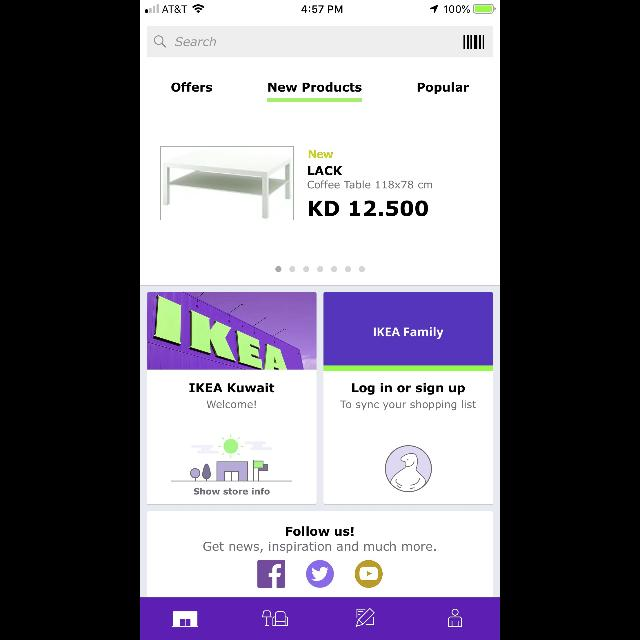icon: (257, 560, 285, 588), (306, 560, 334, 588), (355, 560, 383, 588), (356, 608, 374, 626), (448, 609, 462, 627), (154, 36, 166, 48)
image: (148, 292, 316, 370), (160, 146, 294, 220), (172, 434, 292, 482), (386, 446, 432, 492), (172, 611, 198, 627), (262, 610, 288, 626), (464, 35, 484, 49)
input: (148, 27, 492, 58)
pageindicator: (275, 266, 365, 272)
text: (204, 542, 436, 554), (308, 201, 428, 217), (340, 400, 476, 410), (352, 383, 464, 395), (308, 180, 432, 188), (374, 326, 444, 339), (268, 82, 362, 91), (190, 383, 274, 392), (286, 526, 354, 536), (418, 82, 468, 94), (194, 488, 270, 494), (172, 82, 212, 92), (207, 400, 256, 408), (176, 38, 216, 46), (308, 167, 342, 176), (308, 150, 334, 158)
uppertaskbar: (140, 0, 500, 14)
